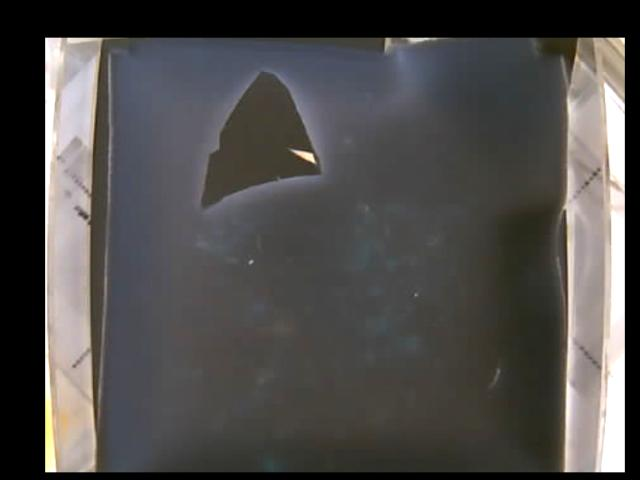China: (193, 70, 322, 208)
